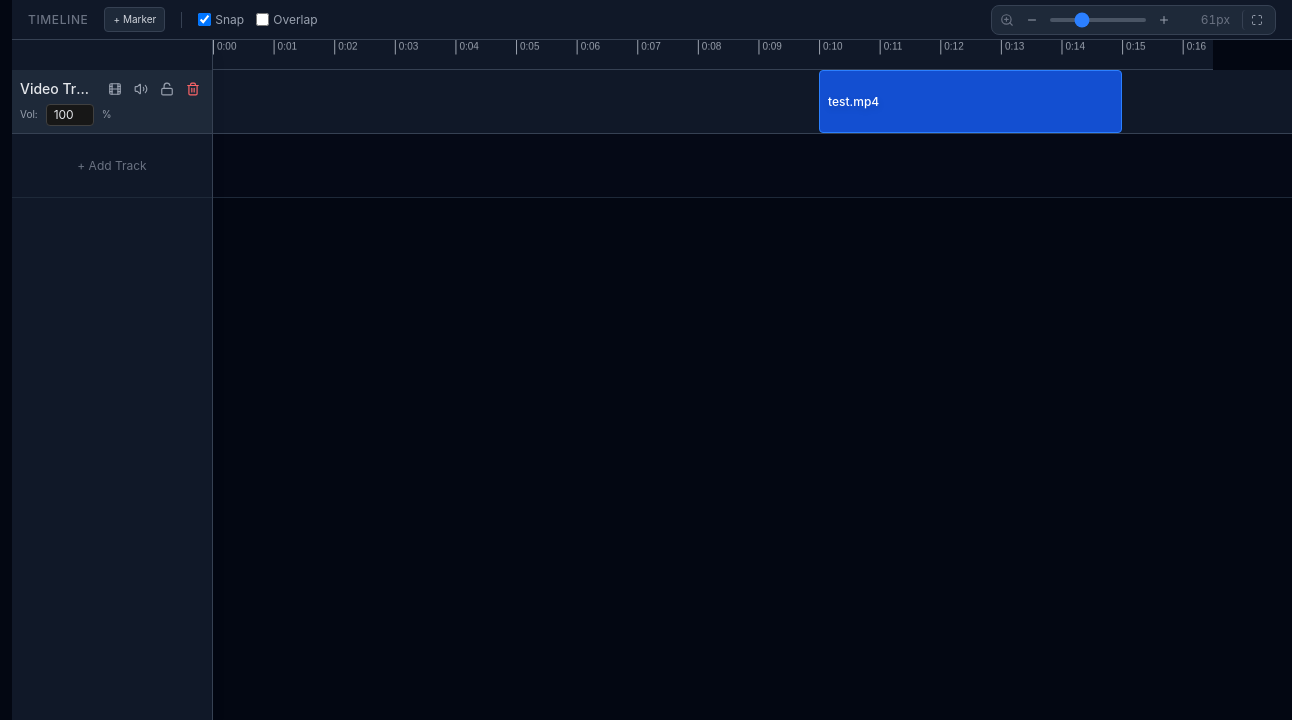
Scenario: Timeline Editing Integration › disables split clip when playhead is outside clip
Note: Right click
Right-click the button with test id "clip-item-clip-1".
right_click(854, 101)  # box [819,70,1122,133]
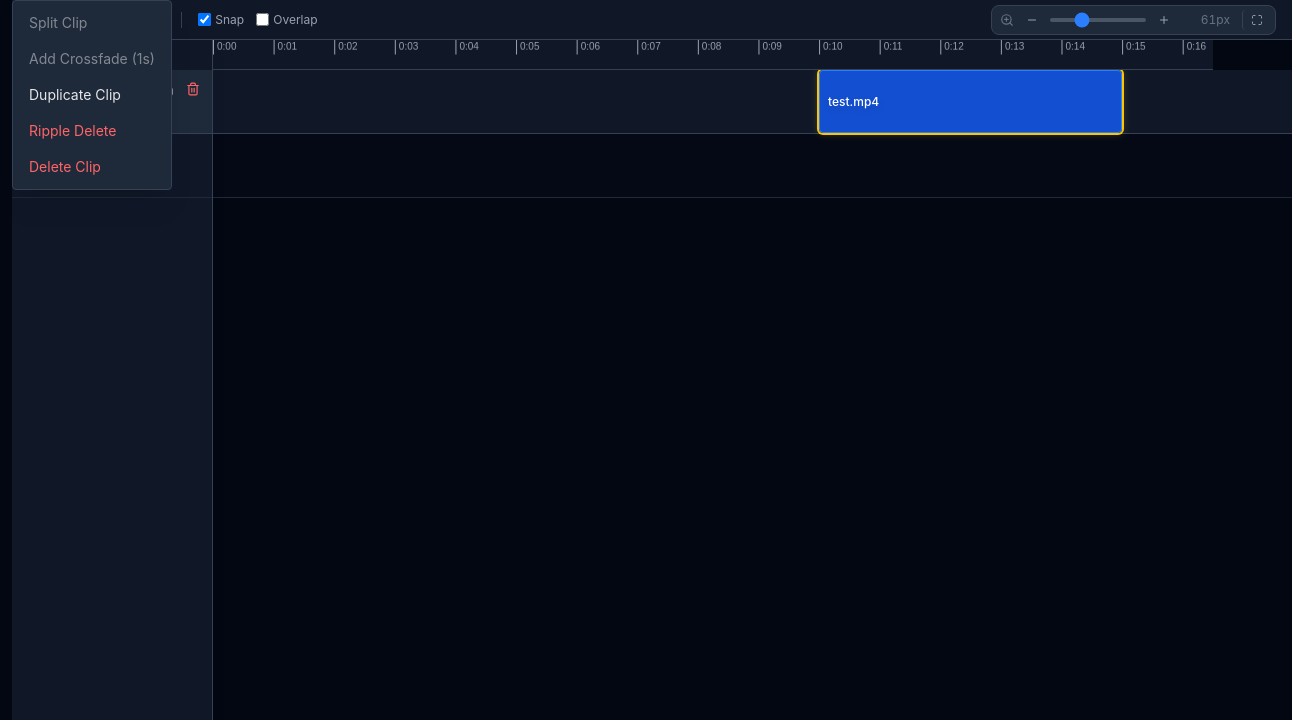
Expected: the menu item "Split Clip" is disabled, [13,5,171,41]
